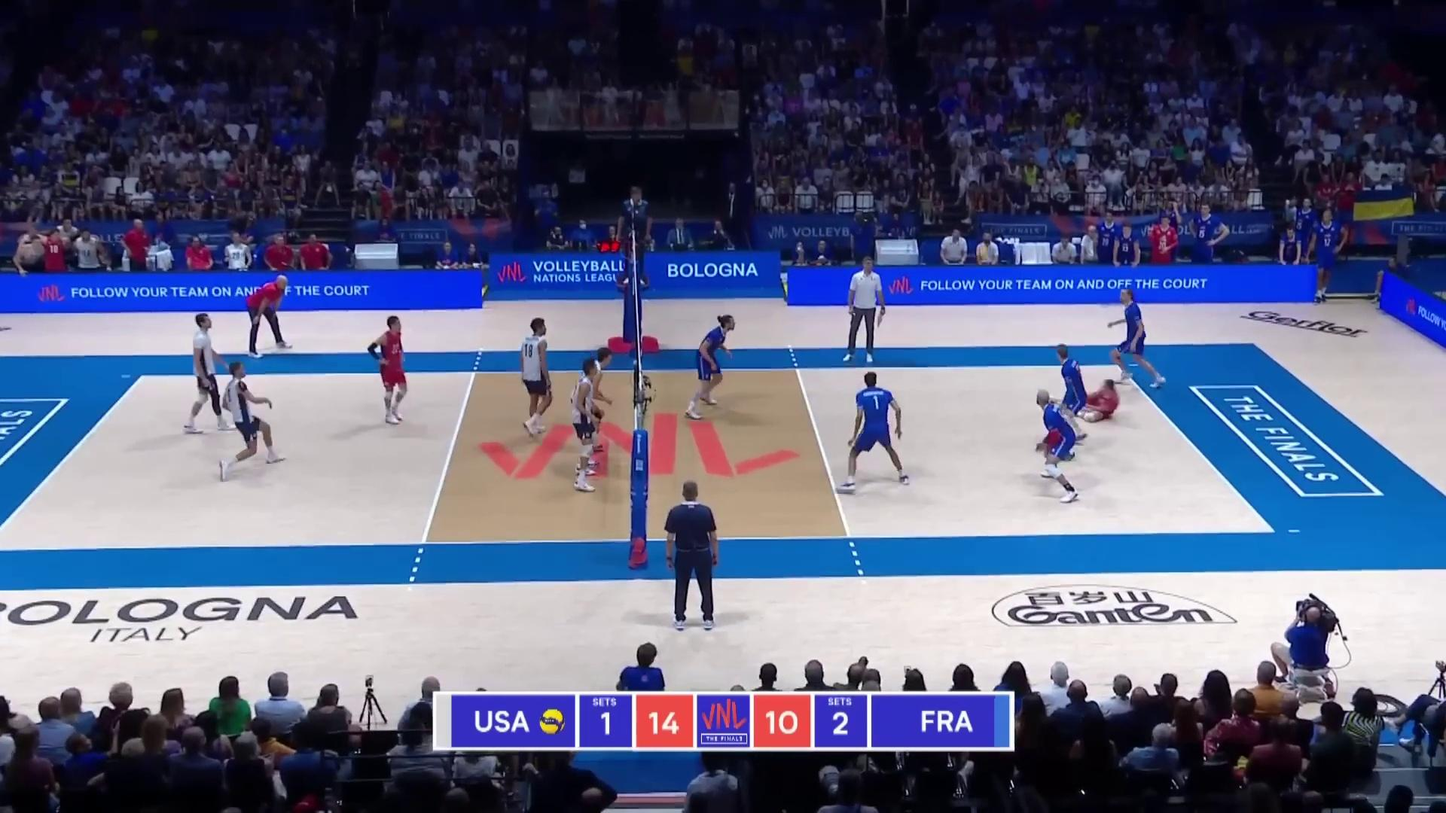player: (838, 375, 909, 495), (223, 367, 286, 477), (569, 357, 610, 488), (1040, 390, 1086, 506), (1107, 291, 1159, 389), (685, 316, 730, 418), (188, 314, 225, 435), (582, 340, 620, 456), (371, 317, 410, 424), (1046, 345, 1088, 444), (520, 318, 555, 435), (1077, 378, 1122, 433)
refree: (662, 483, 716, 629), (620, 187, 651, 289)
